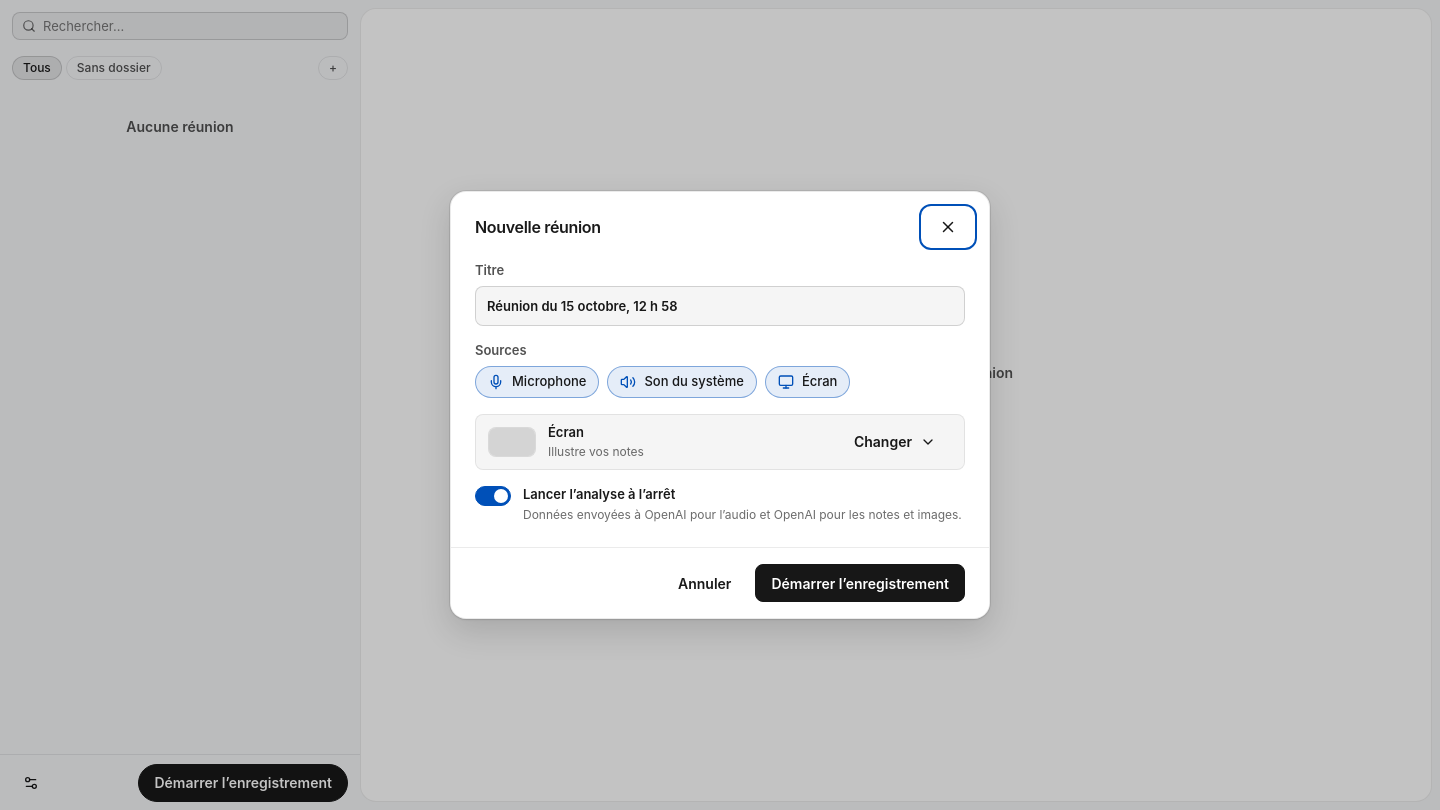
it: Menu bar events in the page › pauses and resumes on request, and the recording view follows
The image size is (1440, 810).
Expected: the switch is shown, left=475, top=486, right=965, bottom=523
Replace the text in the field labelled "Titre" with "Revue du vendredi" at coordinates (720, 306), box left=475, top=286, right=965, bottom=326
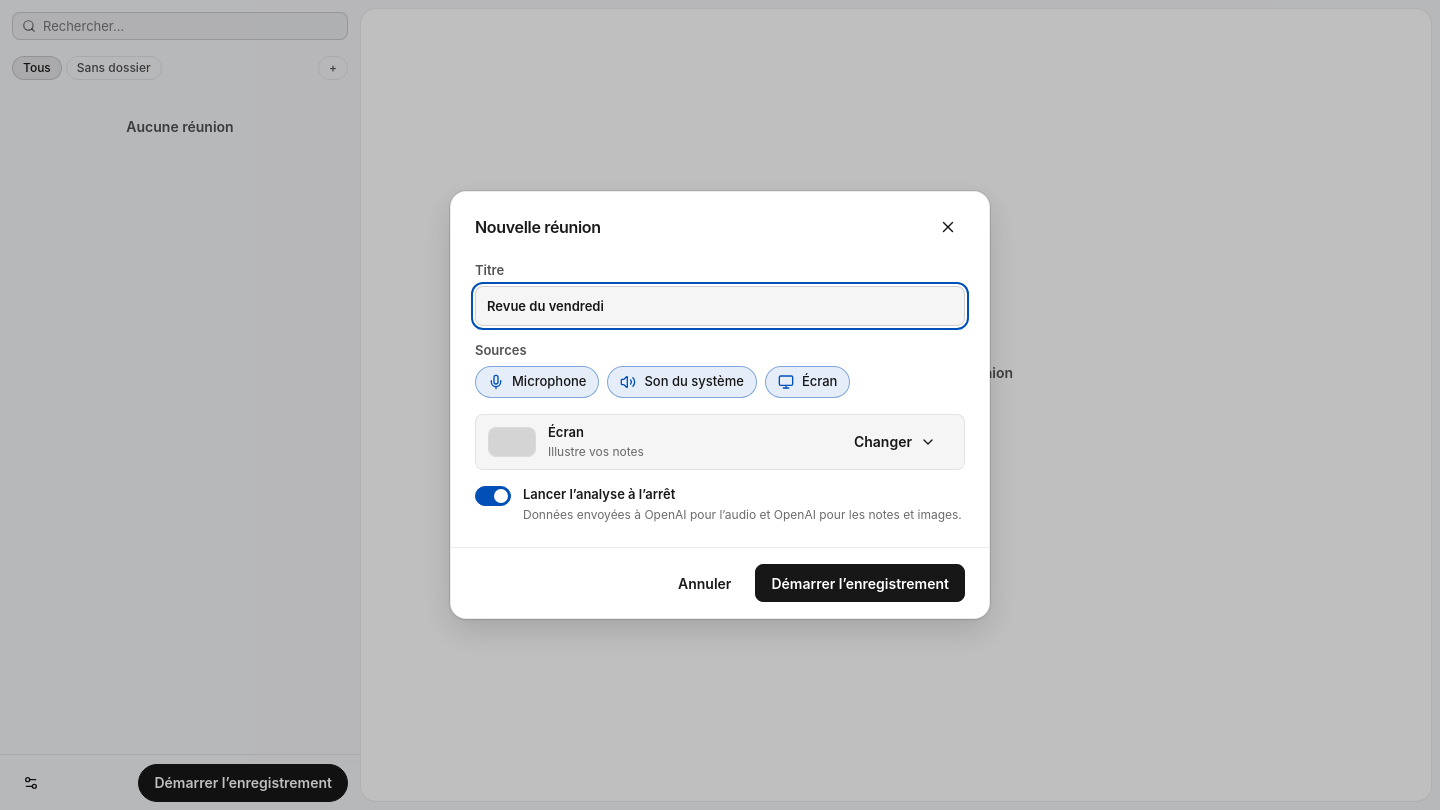
Click the button "Démarrer l’enregistrement".
click(860, 583)  # box left=755, top=564, right=965, bottom=602
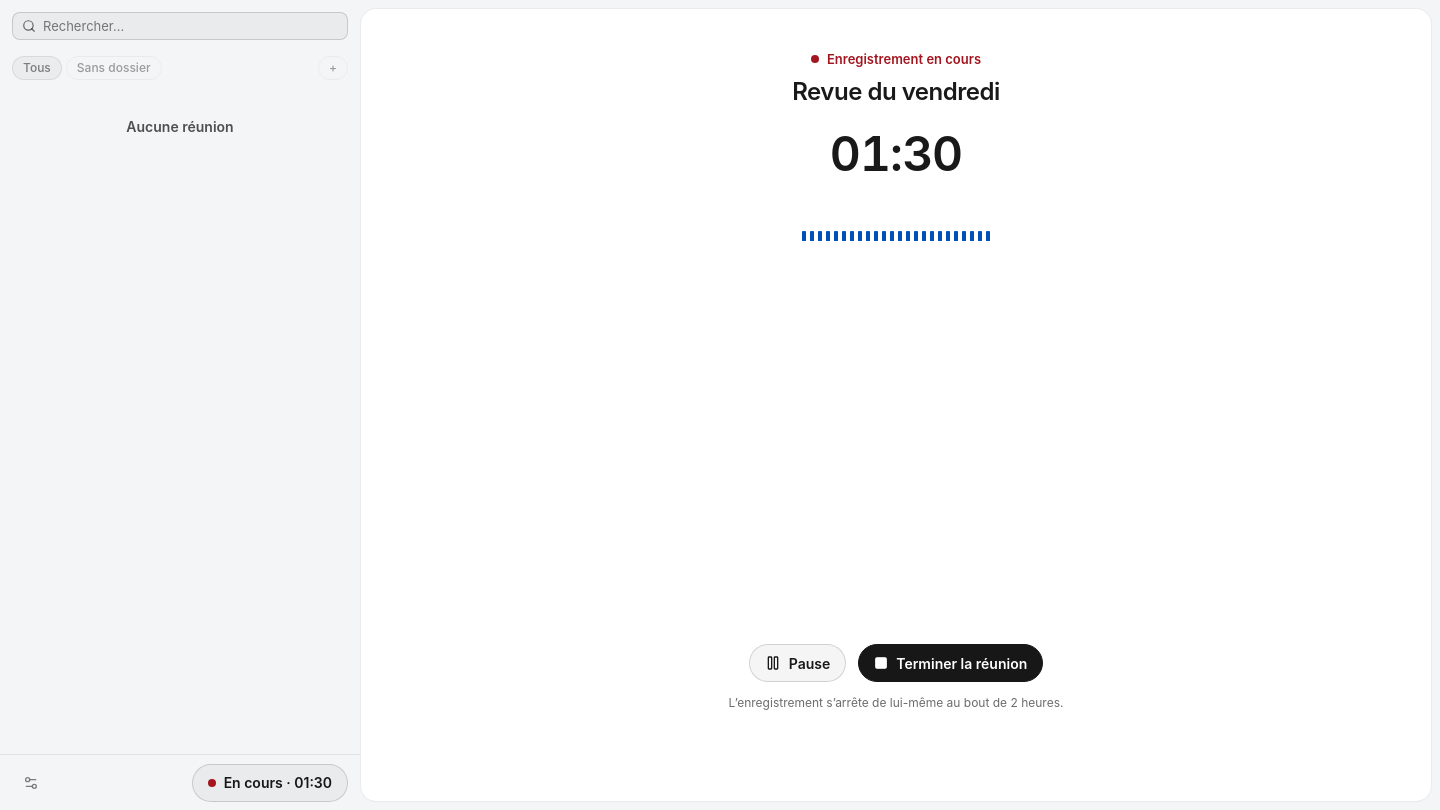
Now the text "En pause" is shown, box left=811, top=49, right=981, bottom=69
Now the button "Pause" is shown, box left=749, top=644, right=846, bottom=682
